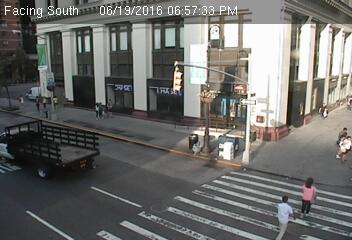neg: (211, 129, 237, 164), (207, 93, 229, 122), (290, 97, 309, 122), (206, 27, 223, 49), (66, 130, 79, 147), (84, 127, 97, 144), (17, 118, 29, 135), (151, 72, 163, 89), (32, 143, 42, 157), (192, 138, 200, 149)
pos: (268, 190, 304, 239), (293, 172, 328, 219), (330, 122, 351, 160), (337, 133, 351, 163), (11, 93, 28, 115), (102, 98, 118, 120), (92, 98, 107, 119), (47, 93, 61, 112), (30, 93, 44, 112), (38, 96, 50, 112)
